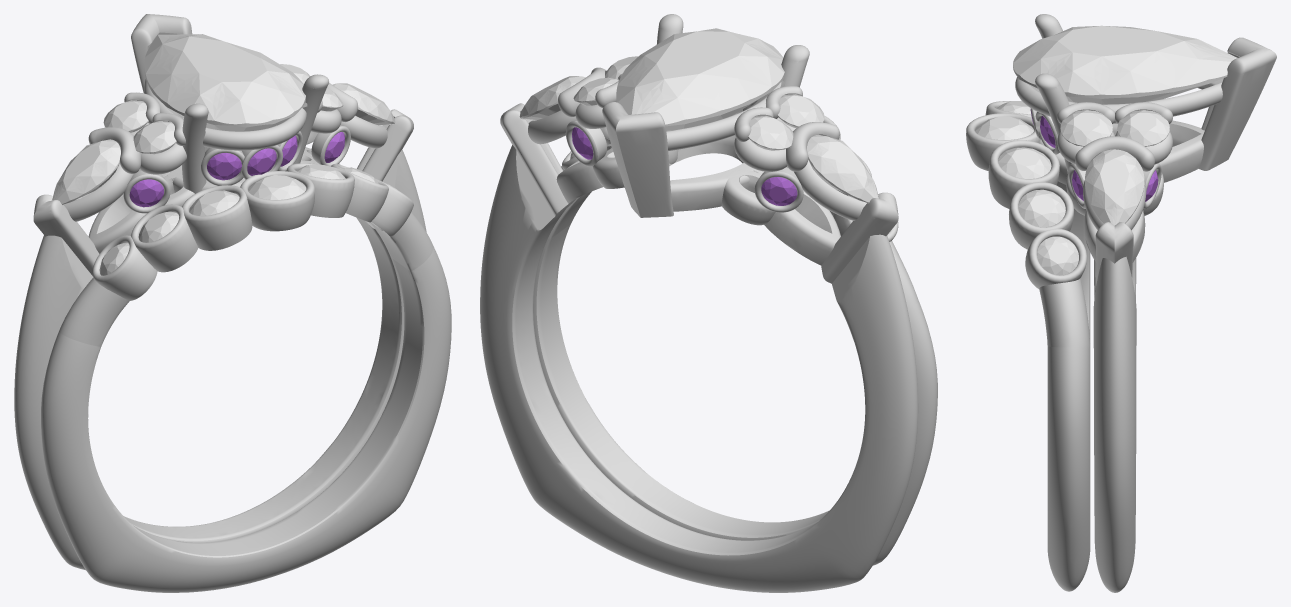
File: JuliePTwbBOTH.glb
3 views of the same model, side by side, from view 1: azimuth 30°, elevation 25°; view 2: azimuth 150°, elevation 25°; view 3: azimuth 270°, elevation 25° (orthographic). The views are drawn at different scales.
Parts seen in each view (by area): view 1: Julie PT BOTH for 3d model, Julie dia BOTH for 3d model.006, Julie dia BOTH for 3d model.007, Julie dia BOTH for 3d model.005, Julie dia BOTH for 3d model.009, Julie dia BOTH for 3d model.012, Julie dia BOTH for 3d model.008, Julie dia BOTH for 3d model.011, Julie dia BOTH for 3d model.002, Julie sapph BOTH for 3d model.005, Julie sapph BOTH for 3d model.001, Julie sapph BOTH for 3d model (+1 smaller); view 2: Julie PT BOTH for 3d model, Julie dia BOTH for 3d model.006, Julie dia BOTH for 3d model.007, Julie dia BOTH for 3d model.008, Julie dia BOTH for 3d model.005, Julie dia BOTH for 3d model.009, Julie sapph BOTH for 3d model.003, Julie dia BOTH for 3d model.010; view 3: Julie PT BOTH for 3d model, Julie dia BOTH for 3d model.006, Julie dia BOTH for 3d model.005, Julie dia BOTH for 3d model.010, Julie dia BOTH for 3d model.004, Julie dia BOTH for 3d model, Julie dia BOTH for 3d model.013, Julie dia BOTH for 3d model.001, Julie dia BOTH for 3d model.012.
Boxes of the visible parts, x1,y1,x2,y2 form: Julie PT BOTH for 3d model: (14,14,451,592); Julie dia BOTH for 3d model.006: (144,34,305,131); Julie dia BOTH for 3d model.007: (52,139,120,204); Julie dia BOTH for 3d model.005: (332,83,395,125); Julie dia BOTH for 3d model.009: (133,121,176,154); Julie dia BOTH for 3d model.012: (248,175,306,199); Julie dia BOTH for 3d model.008: (103,100,148,132); Julie dia BOTH for 3d model.011: (189,190,239,215); Julie dia BOTH for 3d model.002: (138,211,178,242); Julie sapph BOTH for 3d model.005: (129,179,163,207); Julie sapph BOTH for 3d model.001: (207,153,241,180); Julie sapph BOTH for 3d model: (247,148,276,175); Julie PT BOTH for 3d model: (480,14,937,592); Julie dia BOTH for 3d model.006: (616,28,784,130); Julie dia BOTH for 3d model.007: (807,134,878,202); Julie dia BOTH for 3d model.008: (748,116,793,150); Julie dia BOTH for 3d model.005: (519,76,585,119); Julie dia BOTH for 3d model.009: (777,94,824,128); Julie sapph BOTH for 3d model.003: (761,177,797,205); Julie dia BOTH for 3d model.010: (573,77,618,105); Julie PT BOTH for 3d model: (966,14,1276,592); Julie dia BOTH for 3d model.006: (1013,25,1237,104); Julie dia BOTH for 3d model.005: (1085,149,1144,225); Julie dia BOTH for 3d model.010: (1117,110,1169,146); Julie dia BOTH for 3d model.004: (1060,110,1112,146); Julie dia BOTH for 3d model: (1018,189,1065,227); Julie dia BOTH for 3d model.013: (998,147,1051,178); Julie dia BOTH for 3d model.001: (1037,236,1078,275); Julie dia BOTH for 3d model.012: (975,116,1033,139).
Size of the model in its own units: 20.5 by 23.8 by 13.05.
